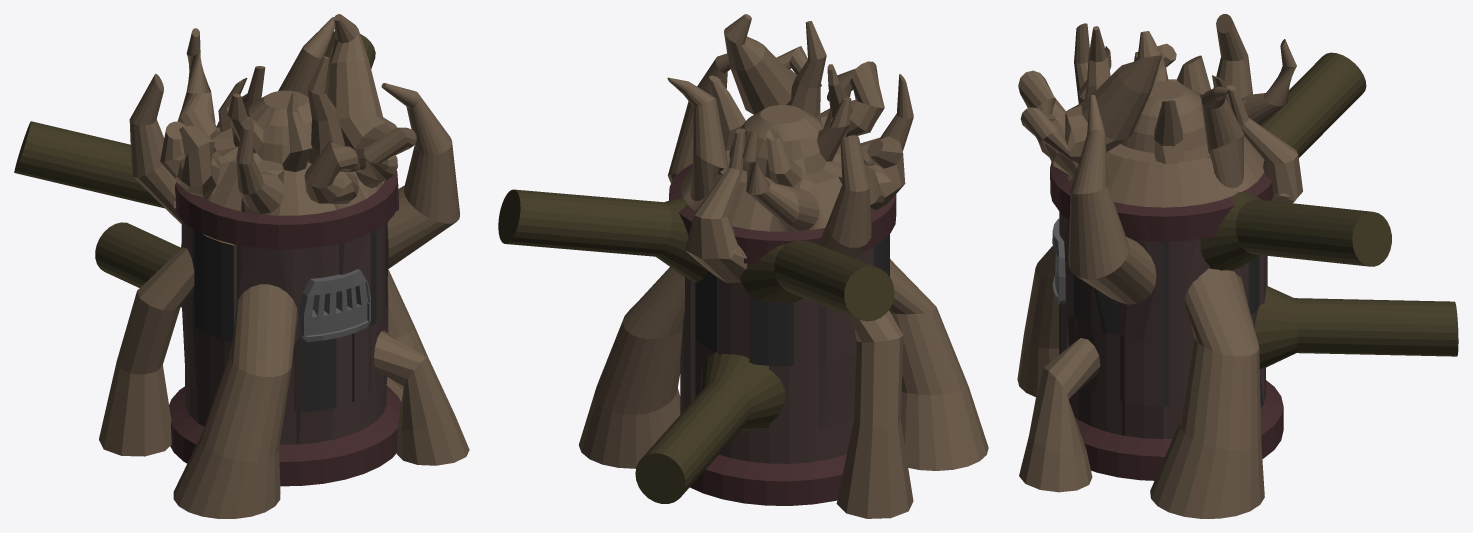
File: Furnace.fbx
3 views of the same model, side by side, from view 1: azimuth 30°, elevation 25°; view 2: azimuth 150°, elevation 25°; view 3: azimuth 270°, elevation 25° (orthographic).
Parts seen in each view (by area): view 1: Furnace, Furnace.001, Root, Pipe, Door, Pipe.003, Root.001; view 2: Furnace, Furnace.001, Root.001, Root, Pipe.002, Pipe.003, Pipe; view 3: Furnace, Furnace.001, Root.001, Pipe.003, Pipe.002, Pipe, Root, Door.
Part boxes in pixels (x1,y1,x2,y2): Furnace: [99, 14, 469, 465]; Furnace.001: [169, 127, 401, 486]; Root: [173, 284, 297, 518]; Pipe: [14, 121, 164, 208]; Door: [299, 269, 370, 341]; Pipe.003: [95, 222, 181, 307]; Root.001: [386, 269, 428, 401]; Furnace: [667, 14, 913, 518]; Furnace.001: [669, 144, 896, 505]; Root.001: [579, 267, 684, 468]; Root: [890, 259, 988, 470]; Pipe.002: [498, 189, 708, 282]; Pipe.003: [635, 352, 785, 503]; Pipe: [740, 240, 894, 321]; Furnace: [1018, 14, 1302, 492]; Furnace.001: [1050, 136, 1283, 480]; Root.001: [1150, 268, 1264, 518]; Pipe.003: [1254, 285, 1458, 368]; Pipe.002: [1200, 192, 1391, 270]; Pipe: [1261, 52, 1366, 157]; Root: [1017, 246, 1059, 396]; Door: [1052, 218, 1065, 304].
Bounding box in the file's own units: 136 × 146 × 137.
